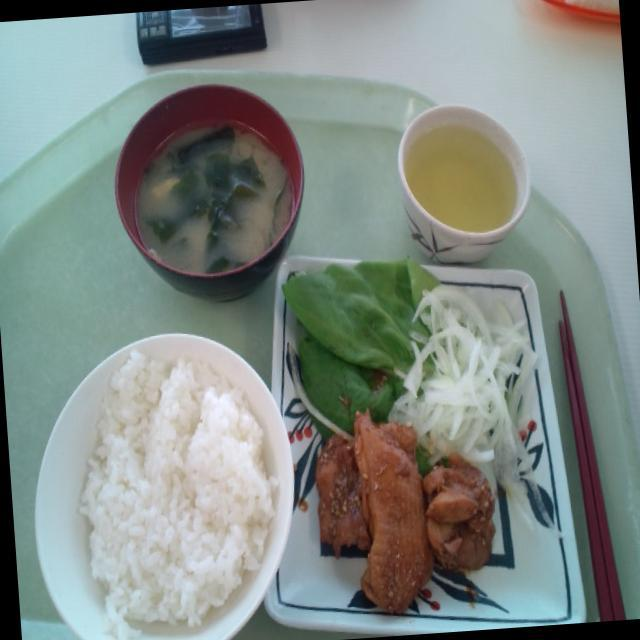Rice: (51, 348, 292, 637)
